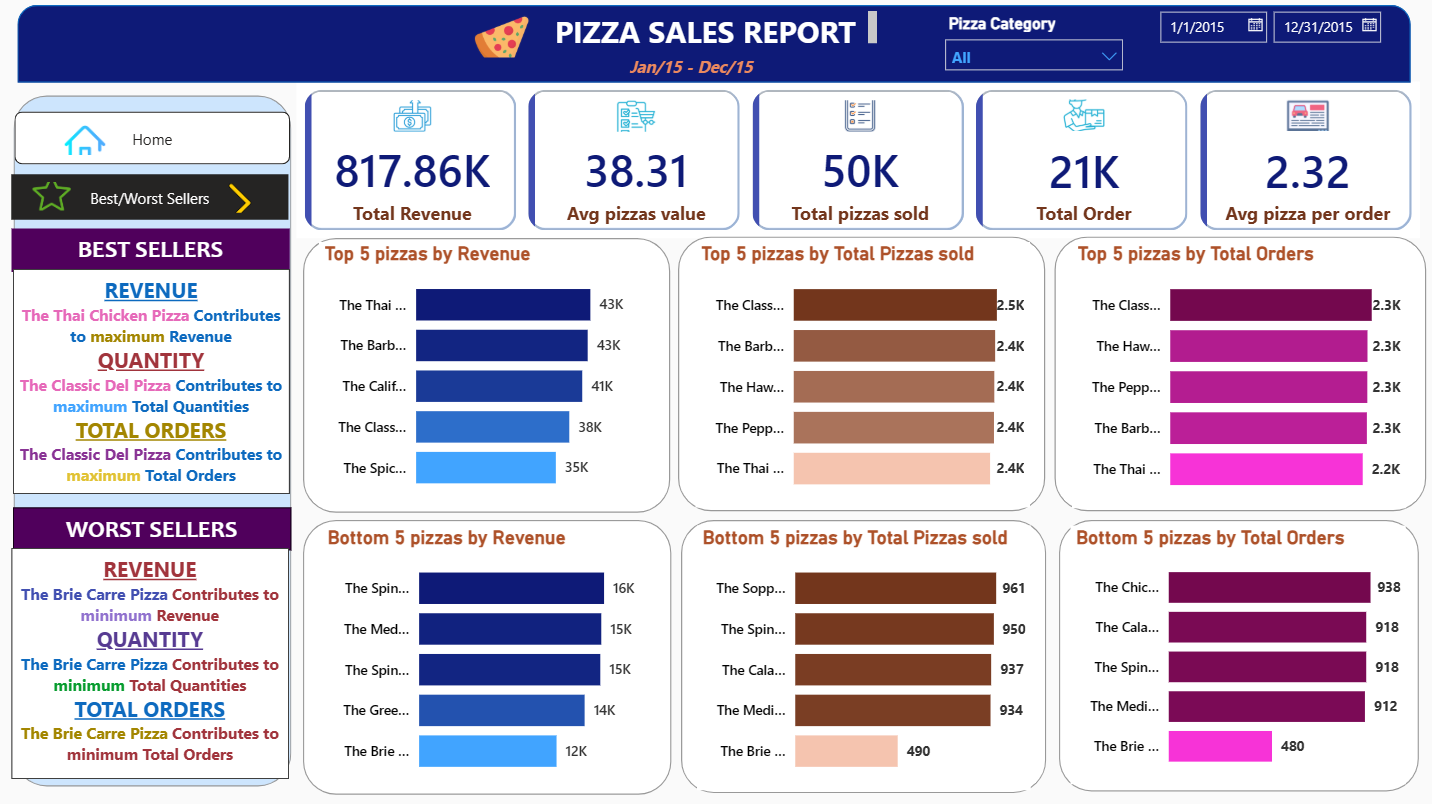

This screenshot's page, from the dashboard's own definition file:
{"tool":"powerbi","page":{"name":"Best/Worst Sellers","canvas":[1280,720],"ordinal":1},"visuals":[{"type":"cardVisual","fields":{"Data":["pizza_sales_01.Total Revenue","pizza_sales_01.Avg pizzas value","pizza_sales_01.Total pizzas sold","pizza_sales_01.Total Order","pizza_sales_01.Avg pizza per order"]},"box":[268.6,76,998.6,139],"z":0},{"type":"shape","box":[20,8,1238.3,69],"z":1000},{"type":"textbox","box":[491.7,8.3,296.7,41.7],"z":2000},{"type":"image","box":[425,0,50,71.7],"z":3000},{"type":"textbox","box":[558,46,150,36.7],"z":4000},{"type":"shape","box":[268.6,460,339,255.7],"z":7000},{"type":"shape","box":[603.6,460.4,336.1,254.3],"z":9000},{"type":"shape","box":[940,460,331.4,252.9],"z":10000},{"type":"shape","box":[10,82.9,258.6,625.7],"z":15000},{"type":"textbox","box":[15,207,247,38.6],"z":16000},{"type":"textbox","box":[15.7,243,246,200],"z":17000},{"type":"textbox","box":[15.7,455,247.1,38],"z":18000},{"type":"textbox","box":[15,491,246.7,205],"z":19000},{"type":"slicer","fields":{"Values":["pizza_sales_01.pizza_category"]},"box":[834,11,178,63],"z":20000},{"type":"slicer","fields":{"Values":["pizza_sales_01.order_date"]},"box":[1022.9,4,215,71],"z":21000},{"type":"shape","box":[268,209,338,255.8],"z":21001},{"type":"shape","box":[601,208,338,255.8],"z":21002},{"type":"shape","box":[935.3,208,342,255.8],"z":21003},{"type":"barChart","title":"Top 5 pizzas by Revenue","fields":{"Category":["pizza_sales_01.pizza_name"],"Y":["pizza_sales_01.Total Revenue"]},"box":[287.9,218,293.8,235],"z":21004},{"type":"barChart","title":"Bottom 5 pizzas by Revenue","fields":{"Category":["pizza_sales_01.pizza_name"],"Y":["pizza_sales_01.Total Revenue"]},"box":[290,471,293.3,235],"z":21005},{"type":"barChart","title":"Top 5 pizzas by Total Pizzas sold","fields":{"Category":["pizza_sales_01.pizza_name"],"Y":["pizza_sales_01.Total pizzas sold"]},"box":[622,218.3,297,236],"z":21006},{"type":"barChart","title":"Bottom 5 pizzas by Total Pizzas sold","fields":{"Category":["pizza_sales_01.pizza_name"],"Y":["pizza_sales_01.Total pizzas sold"]},"box":[623.3,470,296.7,235],"z":21007},{"type":"barChart","title":"Top 5 pizzas by Total Orders","fields":{"Category":["pizza_sales_01.pizza_name"],"Y":["pizza_sales_01.Total Order"]},"box":[956.7,218.3,296.7,236.7],"z":21008},{"type":"barChart","title":"Bottom 5 pizzas by Total Orders","fields":{"Category":["pizza_sales_01.pizza_name"],"Y":["pizza_sales_01.Total Order"]},"box":[956,471,298,230],"z":21009},{"type":"pageNavigator","box":[15,158,246.7,40],"z":21010},{"type":"pageNavigator","box":[16.7,103,245,47],"z":21011},{"type":"image","box":[33,150,34,55],"z":21012},{"type":"image","box":[56,114,48.3,26.7],"z":21013},{"type":"image","box":[200,155,35,50],"z":21014}]}

Visuals, with their boxes in screenshot pixels (x1, y1, x2, y2), scaled from the page's 1280x720 canvas onto the 1432x804 screenshot:
cardVisual - pizza_sales_01.Total Revenue x pizza_sales_01.Avg pizzas value: x1=300 y1=85 x2=1418 y2=240
shape: x1=22 y1=9 x2=1408 y2=86
textbox: x1=550 y1=9 x2=882 y2=56
image: x1=475 y1=0 x2=531 y2=80
textbox: x1=624 y1=51 x2=792 y2=92
shape: x1=300 y1=514 x2=680 y2=799
shape: x1=675 y1=514 x2=1051 y2=798
shape: x1=1052 y1=514 x2=1422 y2=796
shape: x1=11 y1=93 x2=300 y2=791
textbox: x1=17 y1=231 x2=293 y2=274
textbox: x1=18 y1=271 x2=293 y2=495
textbox: x1=18 y1=508 x2=294 y2=551
textbox: x1=17 y1=548 x2=293 y2=777
slicer - pizza_sales_01.pizza_category: x1=933 y1=12 x2=1132 y2=83
slicer - pizza_sales_01.order_date: x1=1144 y1=4 x2=1385 y2=84
shape: x1=300 y1=233 x2=678 y2=519
shape: x1=672 y1=232 x2=1051 y2=518
shape: x1=1046 y1=232 x2=1429 y2=518
"Top 5 pizzas by Revenue" barChart: x1=322 y1=243 x2=651 y2=506
"Bottom 5 pizzas by Revenue" barChart: x1=324 y1=526 x2=653 y2=788
"Top 5 pizzas by Total Pizzas sold" barChart: x1=696 y1=244 x2=1028 y2=507
"Bottom 5 pizzas by Total Pizzas sold" barChart: x1=697 y1=525 x2=1029 y2=787
"Top 5 pizzas by Total Orders" barChart: x1=1070 y1=244 x2=1402 y2=508
"Bottom 5 pizzas by Total Orders" barChart: x1=1070 y1=526 x2=1403 y2=783
pageNavigator: x1=17 y1=176 x2=293 y2=221
pageNavigator: x1=19 y1=115 x2=293 y2=168
image: x1=37 y1=168 x2=75 y2=229
image: x1=63 y1=127 x2=117 y2=157
image: x1=224 y1=173 x2=263 y2=229
